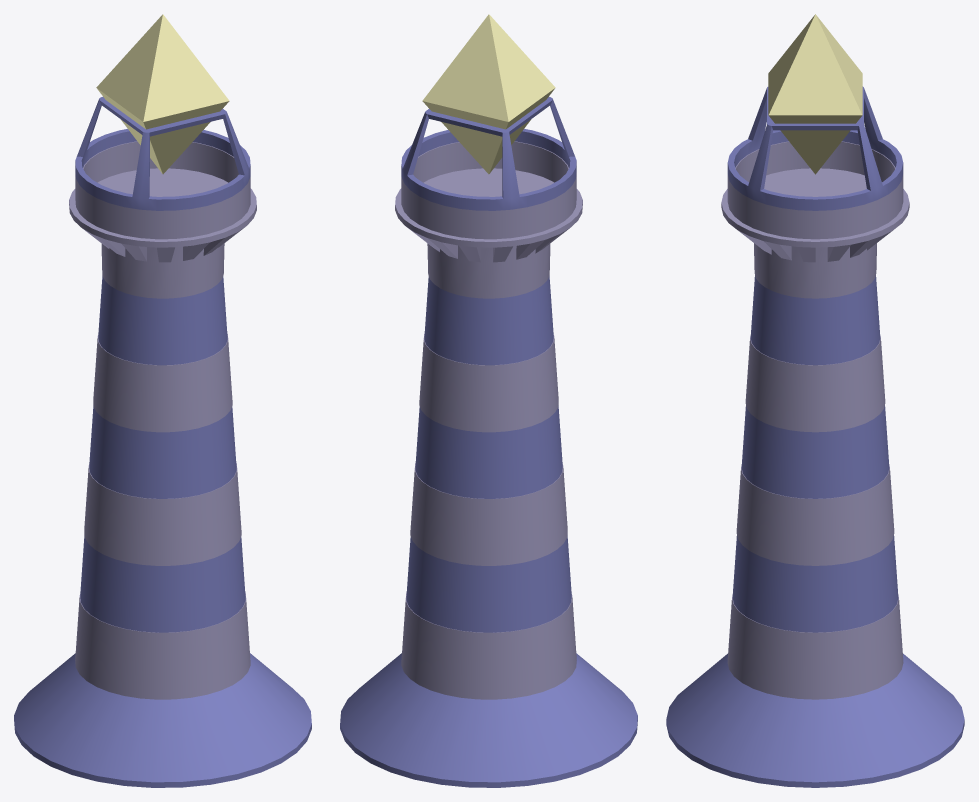
File: phare.fbx
The picture shows the model from 3 angles, left to right: view 1: azimuth 30°, elevation 25°; view 2: azimuth 150°, elevation 25°; view 3: azimuth 270°, elevation 25°; orthographic projection.
Visible parts, largest first — view 1: Phare, Prisme, support; view 2: Phare, Prisme, support; view 3: Phare, Prisme, support.
Boxes of the visible parts, left/top/right/bottom form: Phare: left=14, top=141, right=311, bottom=787; Prisme: left=96, top=14, right=229, bottom=174; support: left=75, top=97, right=250, bottom=210; Phare: left=340, top=141, right=637, bottom=787; Prisme: left=422, top=14, right=555, bottom=174; support: left=401, top=97, right=576, bottom=210; Phare: left=666, top=141, right=964, bottom=787; Prisme: left=768, top=14, right=862, bottom=174; support: left=727, top=86, right=903, bottom=210.
Size of the model in its own units: 4.76 by 12.51 by 4.76.
